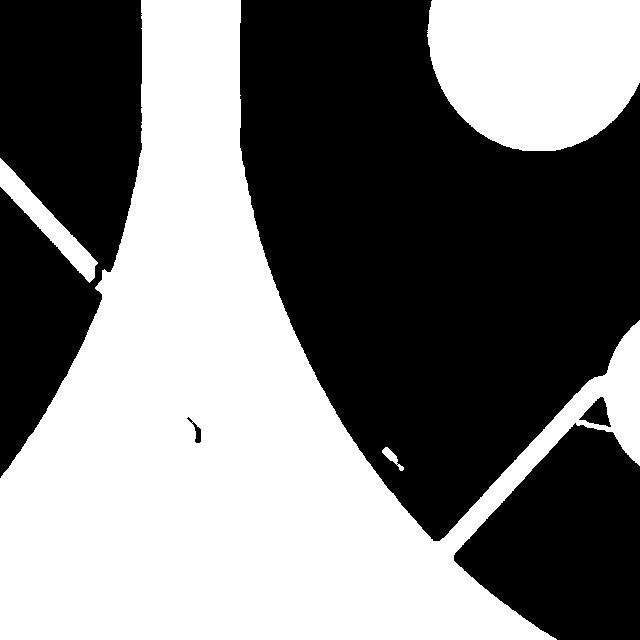copper: (177, 407, 210, 452)
open: (566, 410, 627, 441)
pin-hole: (372, 437, 413, 480)
short: (77, 252, 117, 300)
